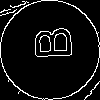B: (25, 25, 72, 61)
